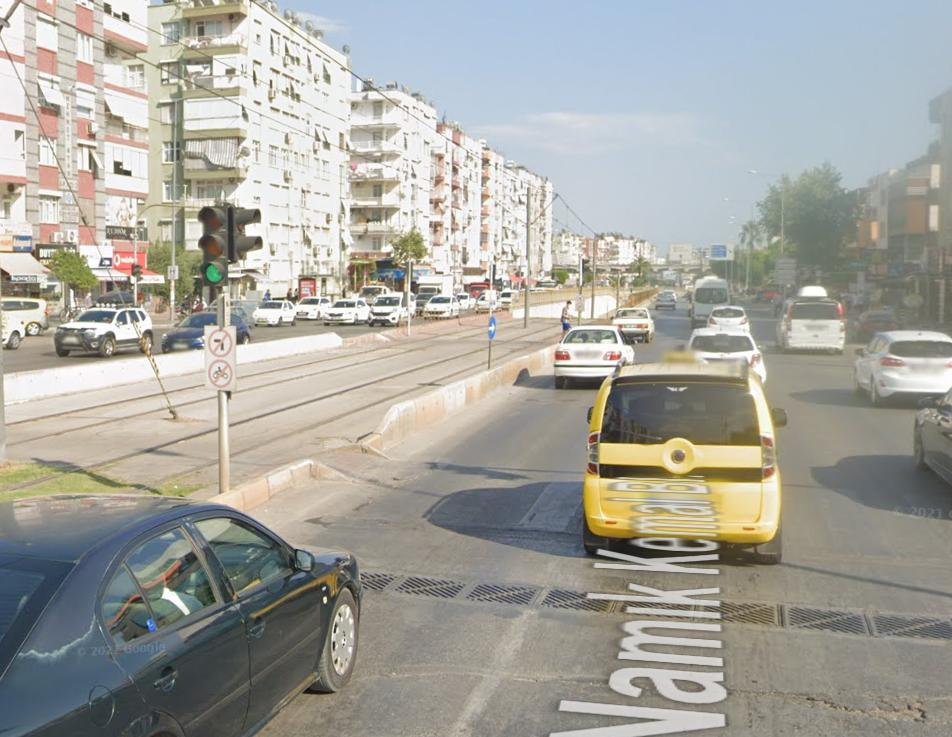greenlight: (196, 203, 233, 286)
leftturnsareforbidden: (209, 332, 231, 356)
turnright: (487, 316, 499, 339)
